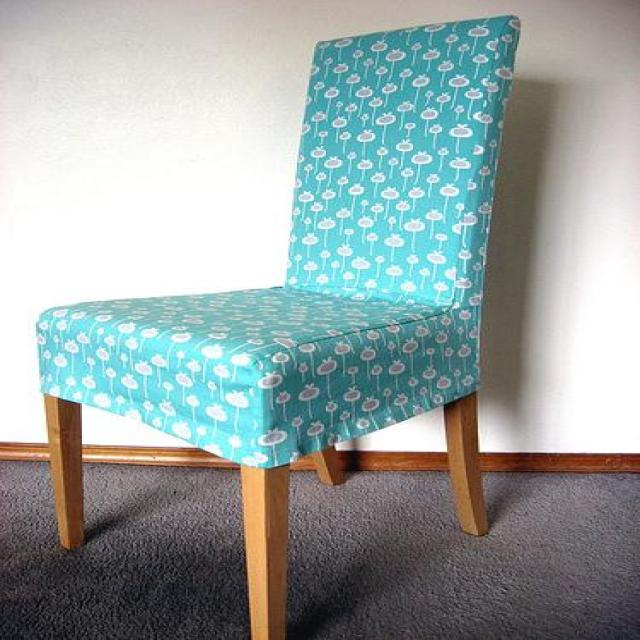chair: (37, 14, 526, 640)
